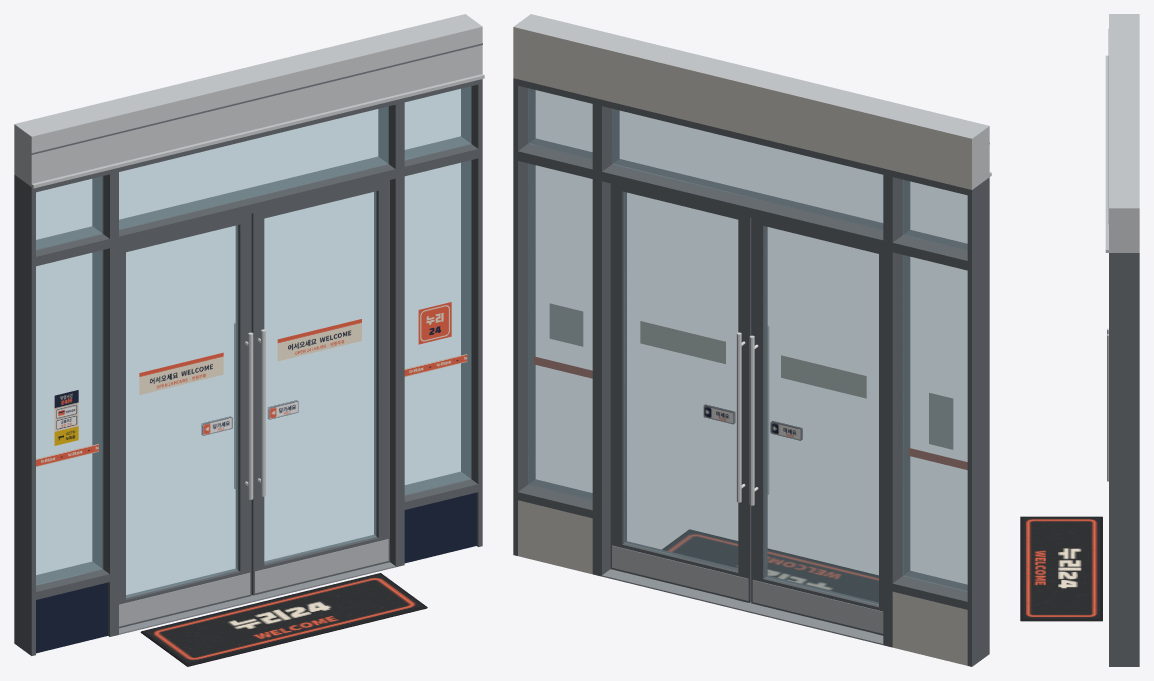
Rendered from SC_Bld_Store_Front_Door_3m.gltf.
3 views of the same model, side by side, from view 1: azimuth 30°, elevation 25°; view 2: azimuth 150°, elevation 25°; view 3: azimuth 270°, elevation 25° (orthographic). The views are drawn at different scales.
Parts seen in each view (by area): view 1: SC_Bld_Store_Front_Door_3m; view 2: SC_Bld_Store_Front_Door_3m; view 3: SC_Bld_Store_Front_Door_3m.
Boxes of the visible parts, left/top/right/bottom form: SC_Bld_Store_Front_Door_3m: left=14, top=14, right=484, bottom=666; SC_Bld_Store_Front_Door_3m: left=513, top=14, right=991, bottom=666; SC_Bld_Store_Front_Door_3m: left=1020, top=14, right=1139, bottom=666.
Size of the model in its own units: 3 by 3.3 by 0.78.
3 materials, 3 textured.
